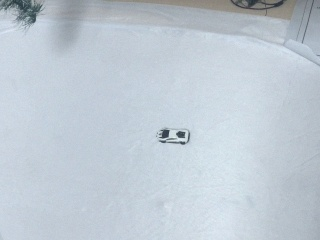toy_car: (157, 128, 190, 144)
